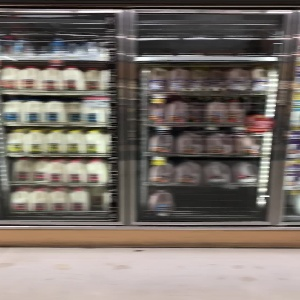void: (172, 185, 266, 217)
